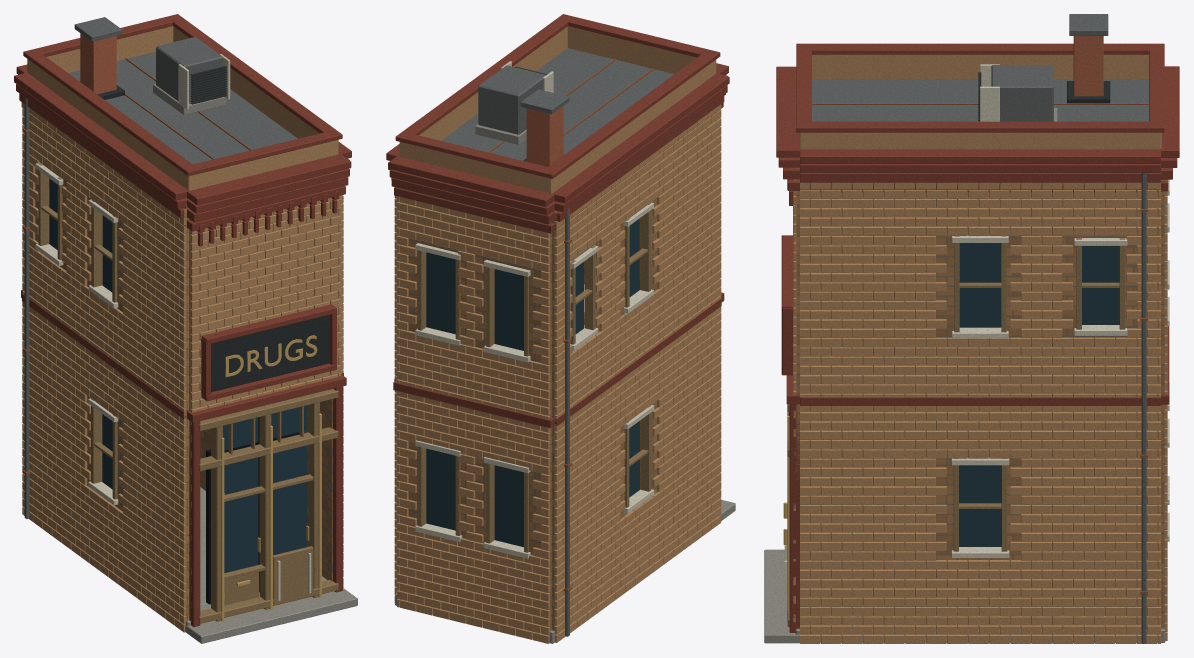
The model's file is BUSS5_lod0.glb.
The picture shows the model from 3 angles, left to right: view 1: azimuth 30°, elevation 25°; view 2: azimuth 150°, elevation 25°; view 3: azimuth 270°, elevation 25°; orthographic projection. The views are drawn at different scales.
Parts seen in each view (by area): view 1: BUSS5_LOD0; view 2: BUSS5_LOD0; view 3: BUSS5_LOD0.
Boxes of the visible parts, <box> form: BUSS5_LOD0: <box>14,14,357,643</box>; BUSS5_LOD0: <box>386,14,735,643</box>; BUSS5_LOD0: <box>764,14,1179,643</box>.
Size of the model in its own units: 3.78 by 10.25 by 6.9.
15 materials, 12 textured.
